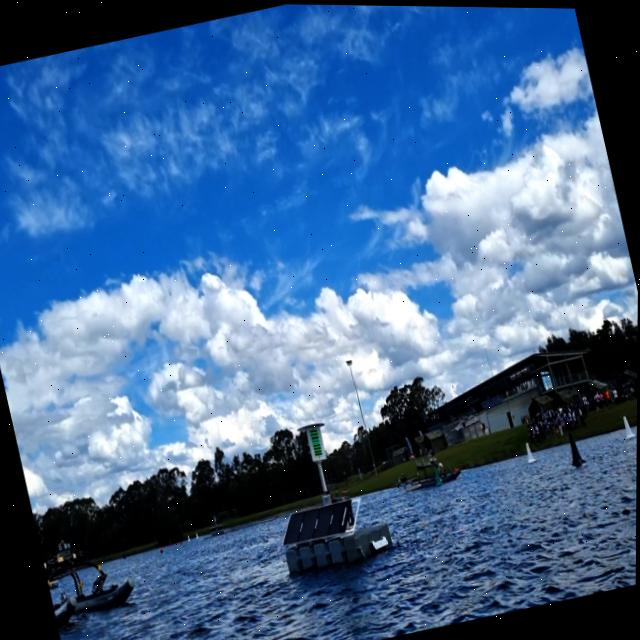led: (307, 425, 326, 459)
